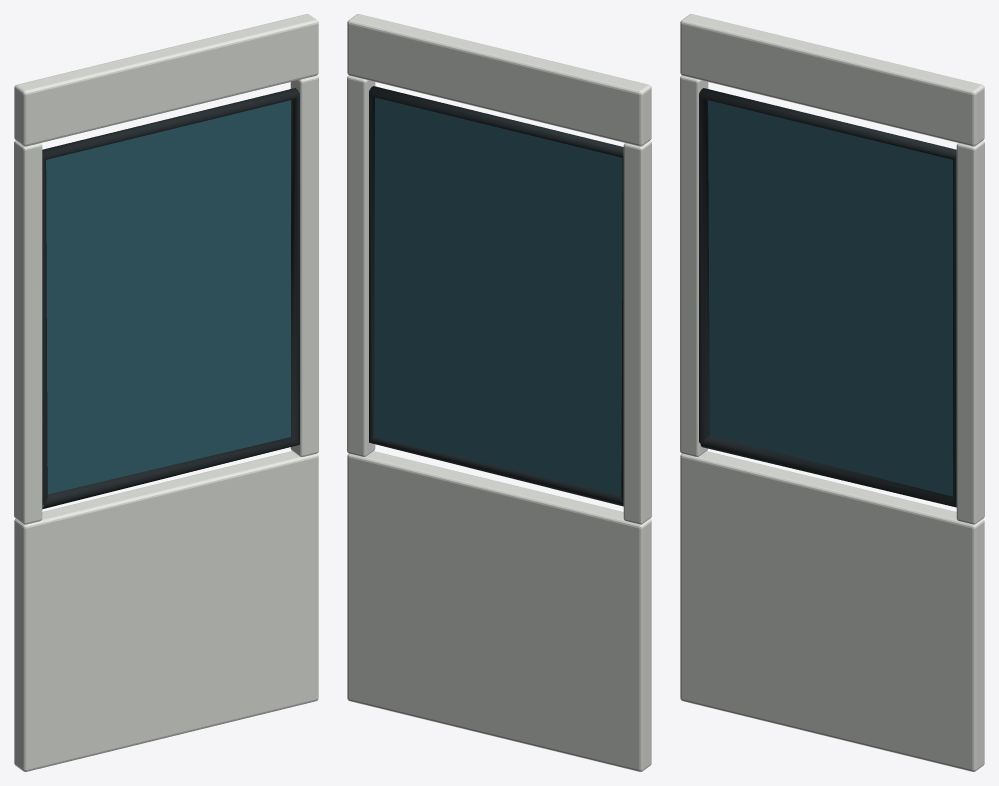
Rendered from window_wall_1m.glb.
3 renders of one model, left to right at view 1: azimuth 30°, elevation 25°; view 2: azimuth 150°, elevation 25°; view 3: azimuth 330°, elevation 25°, orthographic.
Parts seen in each view (by area): view 1: Glazing, Window wall sill, Window wall header, EPDM seal, Window wall stile, Window wall stile.001; view 2: Glazing, Window wall sill, Window wall header, Window wall stile, Window wall stile.001, EPDM seal; view 3: Glazing, Window wall sill, Window wall header, EPDM seal, Window wall stile.001, Window wall stile.
Part boxes in pixels (left/top/right/bottom): Glazing: left=46, top=100, right=290, bottom=494; Window wall sill: left=14, top=451, right=318, bottom=771; Window wall header: left=14, top=14, right=318, bottom=146; EPDM seal: left=42, top=88, right=299, bottom=509; Window wall stile: left=14, top=140, right=42, bottom=524; Window wall stile.001: left=290, top=75, right=318, bottom=456; Glazing: left=375, top=97, right=622, bottom=495; Window wall sill: left=347, top=451, right=651, bottom=771; Window wall header: left=347, top=14, right=651, bottom=146; Window wall stile: left=623, top=140, right=651, bottom=524; Window wall stile.001: left=347, top=75, right=375, bottom=456; EPDM seal: left=369, top=86, right=623, bottom=506; Glazing: left=708, top=100, right=952, bottom=496; Window wall sill: left=680, top=451, right=984, bottom=771; Window wall header: left=680, top=14, right=984, bottom=146; EPDM seal: left=699, top=88, right=956, bottom=507; Window wall stile.001: left=956, top=140, right=984, bottom=524; Window wall stile: left=680, top=75, right=708, bottom=456.
Bounding box in the file's own units: 1 × 2.2 × 0.065.
